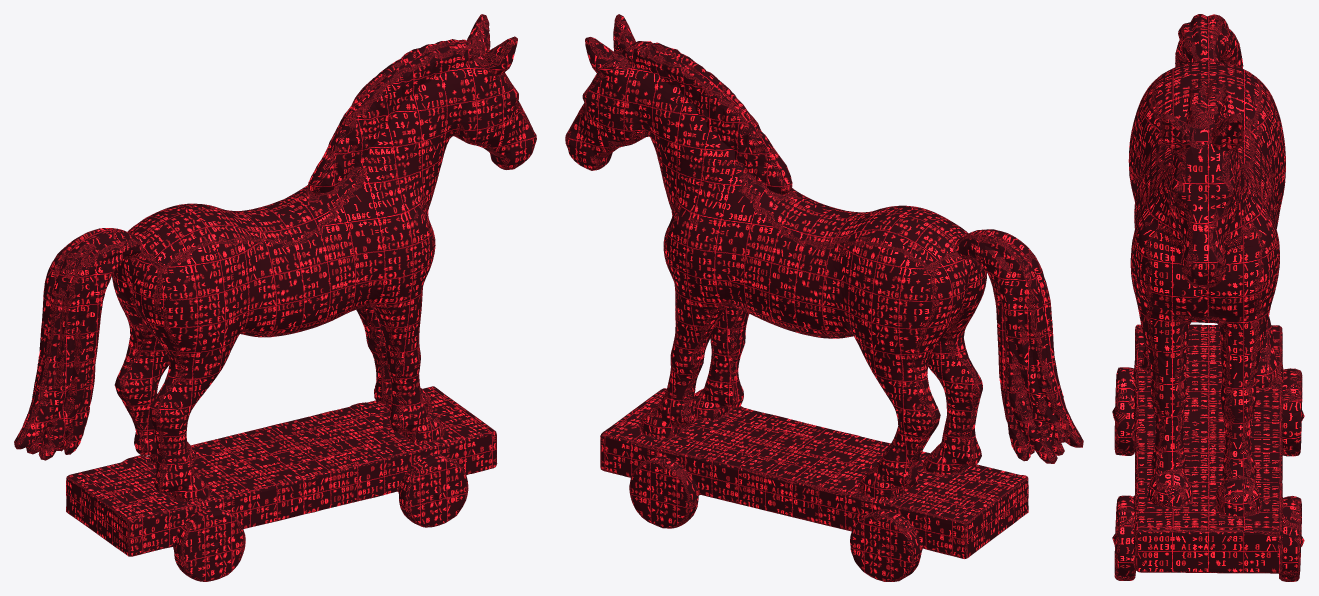
Rendered from trojan.glb.
The picture shows the model from 3 angles, left to right: view 1: azimuth 30°, elevation 25°; view 2: azimuth 150°, elevation 25°; view 3: azimuth 270°, elevation 25°; orthographic projection. The views are drawn at different scales.
Visible parts, largest first — view 1: geometry_0; view 2: geometry_0; view 3: geometry_0.
Part boxes in pixels (x1,y1,x2,y2): geometry_0: (14,14,536,581); geometry_0: (565,14,1083,581); geometry_0: (1112,14,1304,581).
Size of the model in its own units: 3 by 2.5 by 0.8421.
1 material, 1 textured.
